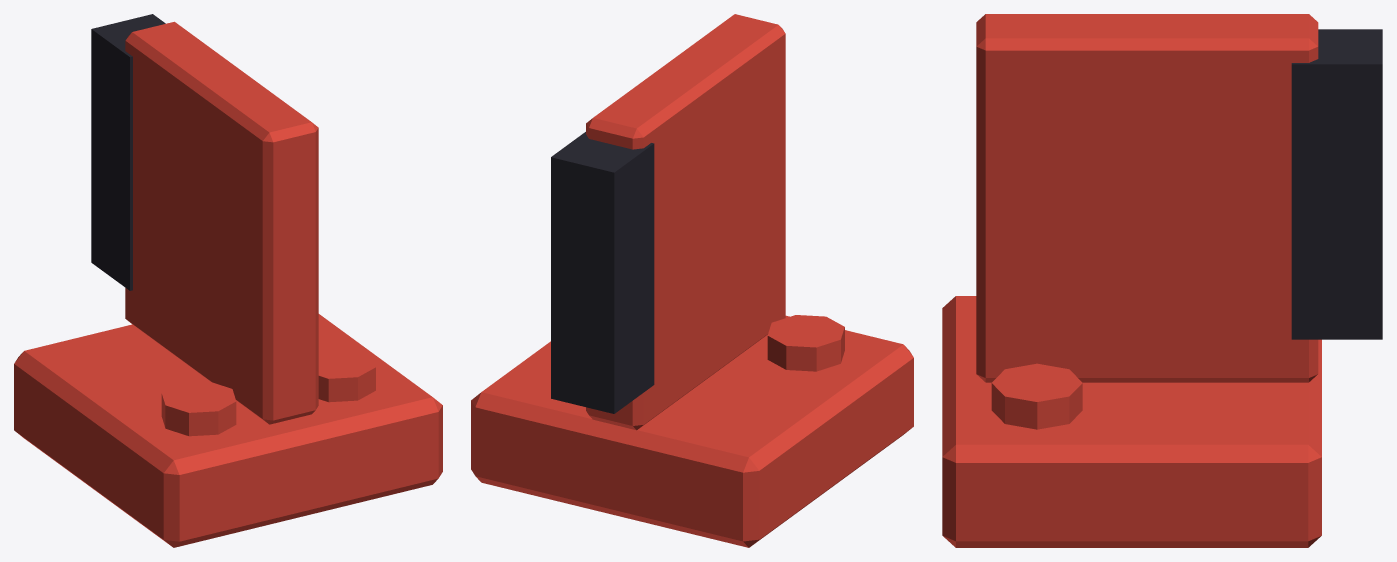
File: Prop_Brk_AssemblyPiece_Tail.glb
The picture shows the model from 3 angles, left to right: view 1: azimuth 30°, elevation 25°; view 2: azimuth 150°, elevation 25°; view 3: azimuth 270°, elevation 25°; orthographic projection. The views are drawn at different scales.
Visible parts, largest first — view 1: Prop_Brk_AssemblyPiece_Tail; view 2: Prop_Brk_AssemblyPiece_Tail; view 3: Prop_Brk_AssemblyPiece_Tail.
Boxes of the visible parts, box(x1,y1,x2,y2) form: Prop_Brk_AssemblyPiece_Tail: box(14, 14, 442, 547); Prop_Brk_AssemblyPiece_Tail: box(471, 14, 913, 547); Prop_Brk_AssemblyPiece_Tail: box(942, 14, 1382, 547).
Size of what is drawn, in the model's own units: 0.5 by 0.65 by 0.58.
